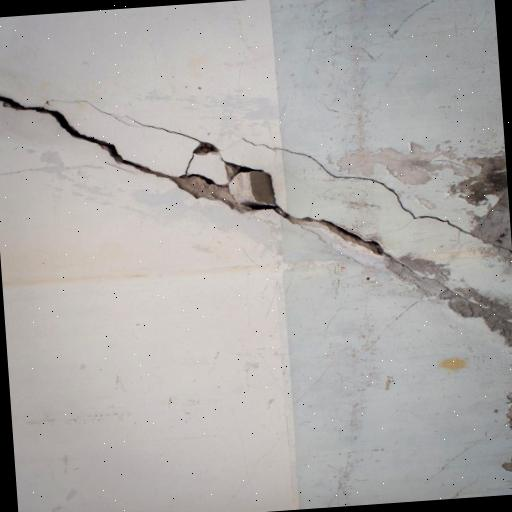spalling: (237, 135, 474, 242), (0, 93, 173, 185), (51, 95, 210, 173), (171, 145, 279, 214), (276, 210, 386, 255)
